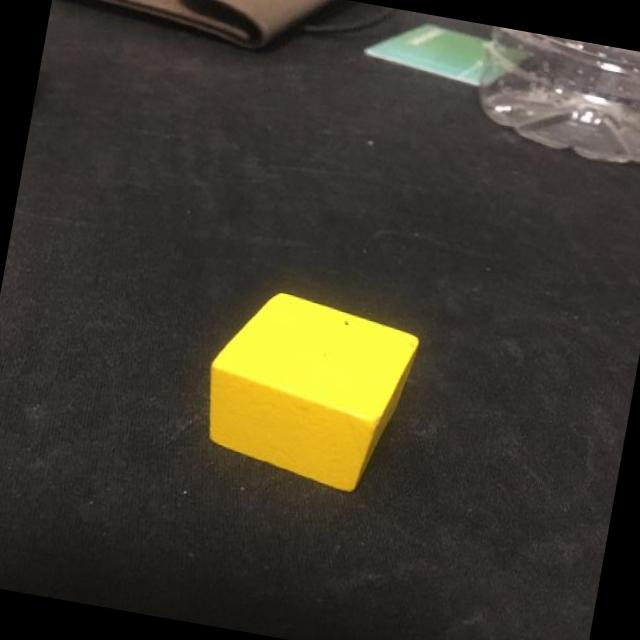yellow: (194, 280, 426, 500)
